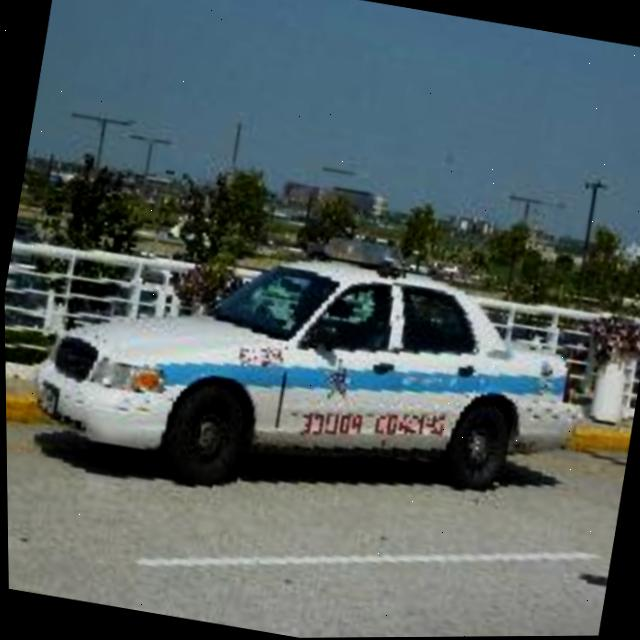emergency: (23, 181, 607, 547)
